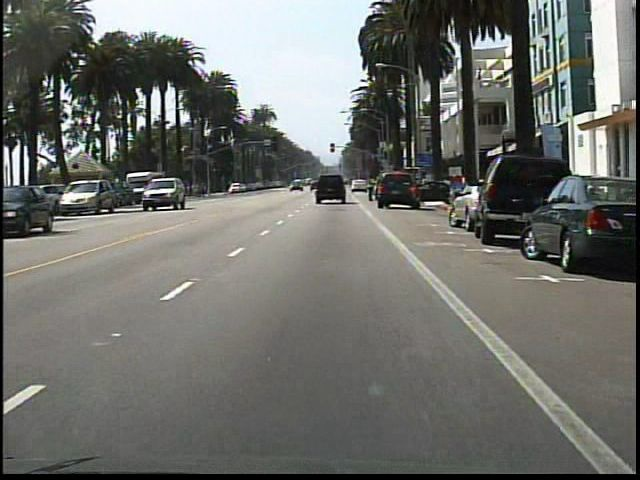person: (364, 173, 380, 204)
